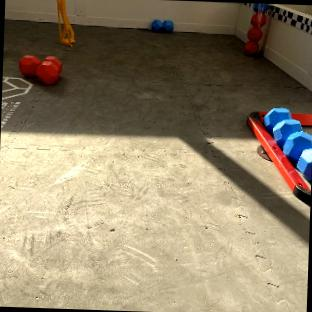Parking-R: (248, 111, 311, 195)
V5_BLUE: (264, 107, 312, 178), (277, 128, 312, 164), (297, 148, 312, 179), (152, 21, 173, 31)
V5_RED: (19, 55, 62, 84), (244, 13, 264, 54)
